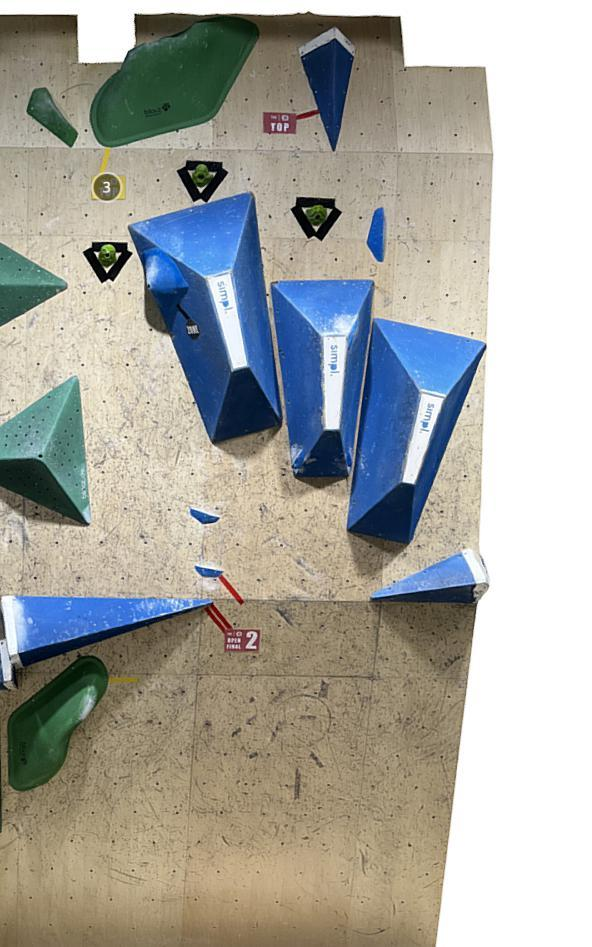hold: (128, 192, 282, 441), (346, 317, 486, 545), (90, 16, 259, 148), (272, 280, 374, 477), (1, 596, 214, 670), (7, 655, 110, 791), (299, 25, 357, 152), (370, 548, 491, 603), (143, 246, 188, 317), (26, 87, 78, 148), (291, 197, 343, 241), (176, 161, 229, 203), (83, 242, 133, 284), (366, 207, 385, 263), (0, 639, 19, 690), (189, 507, 220, 524), (194, 564, 224, 578)
volume: (0, 375, 92, 526), (0, 242, 68, 328)
